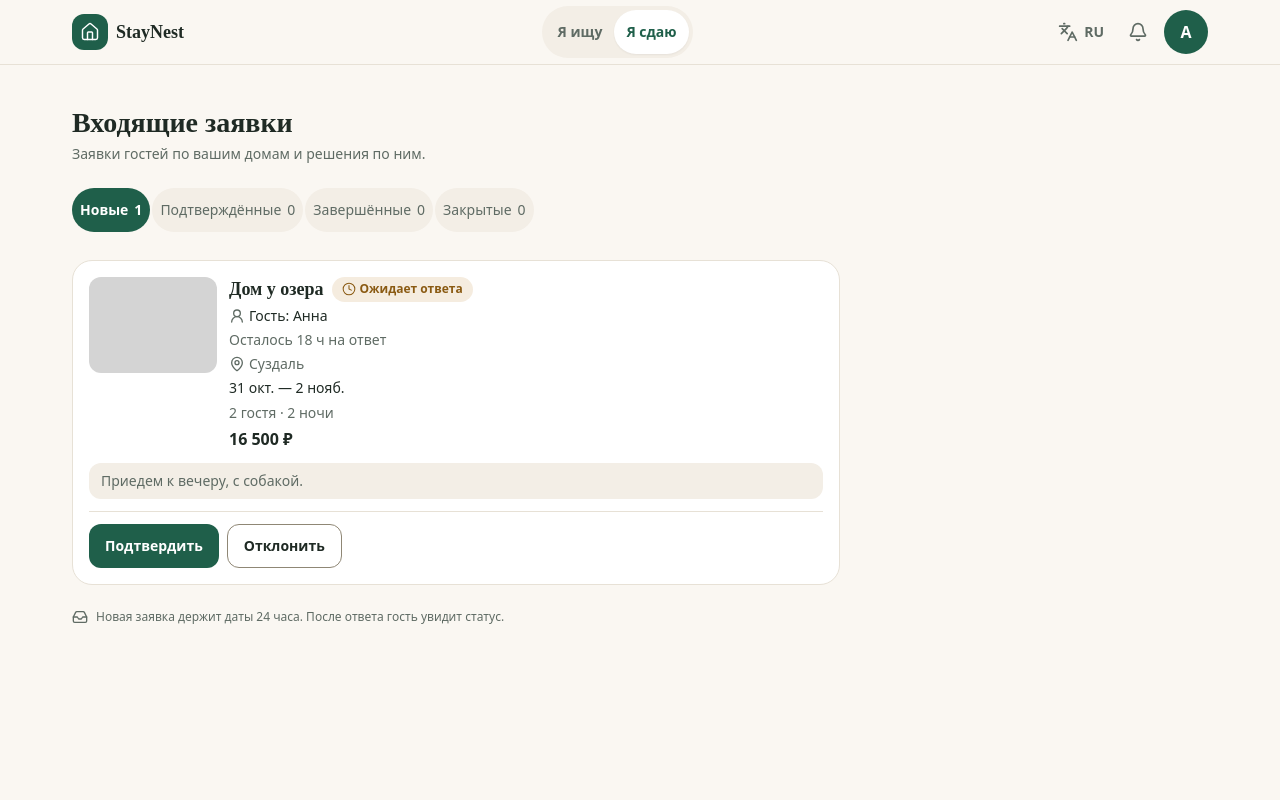
App › подтверждает входящую заявку хозяина
Expected: the heading "Входящие заявки" is shown, [72,107,293,138]
Click the button "Подтвердить" at (154, 546), box [89,524,219,568]
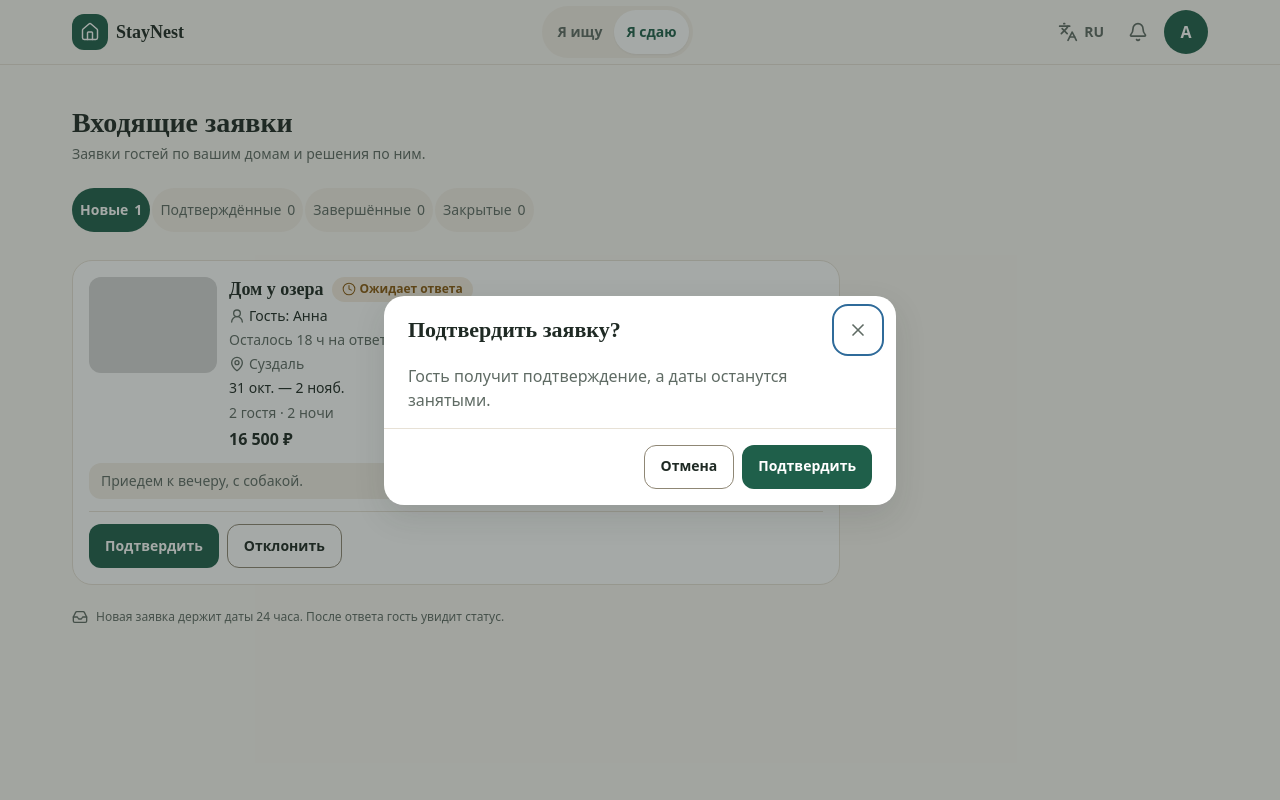
Click the button "Подтвердить" at (807, 466), box [742,444,872,488]
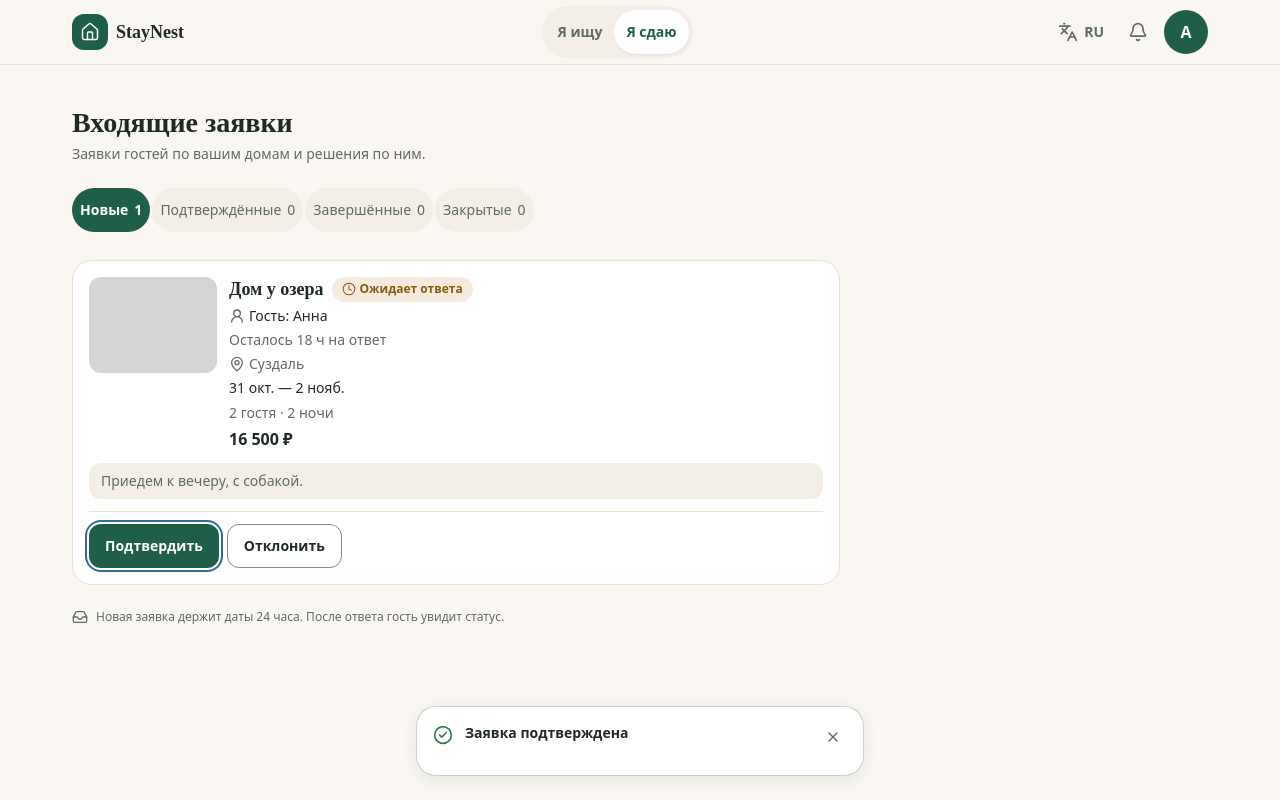
Expected: the text "Заявка подтверждена" is shown, [465,723,628,742]
